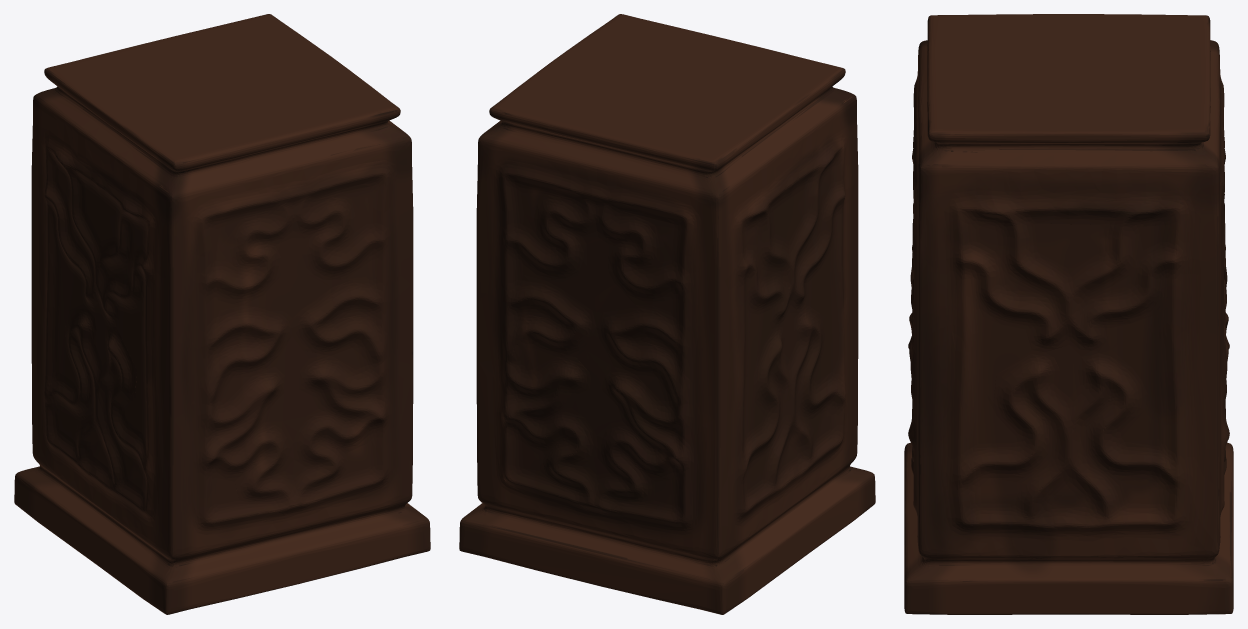
File: sopportePiezas.fbx
3 views of the same model, side by side, from view 1: azimuth 30°, elevation 25°; view 2: azimuth 150°, elevation 25°; view 3: azimuth 270°, elevation 25° (orthographic). The views are drawn at different scales.
Parts seen in each view (by area): view 1: Cube; view 2: Cube; view 3: Cube.
Part boxes in pixels (x1=…): Cube: x1=14, y1=14, x2=430, y2=614; Cube: x1=459, y1=14, x2=875, y2=614; Cube: x1=904, y1=14, x2=1233, y2=614.
Size of the model in its own units: 218 by 346 by 218.
1 material, 1 textured.
